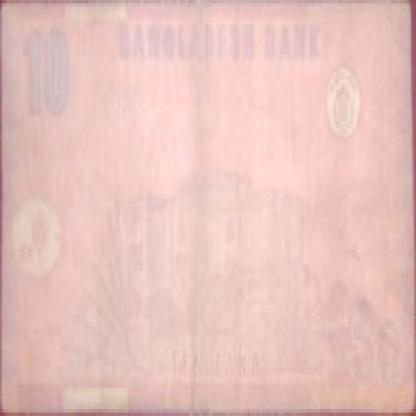Ten Taka: (24, 31, 86, 135), (350, 305, 402, 399)
